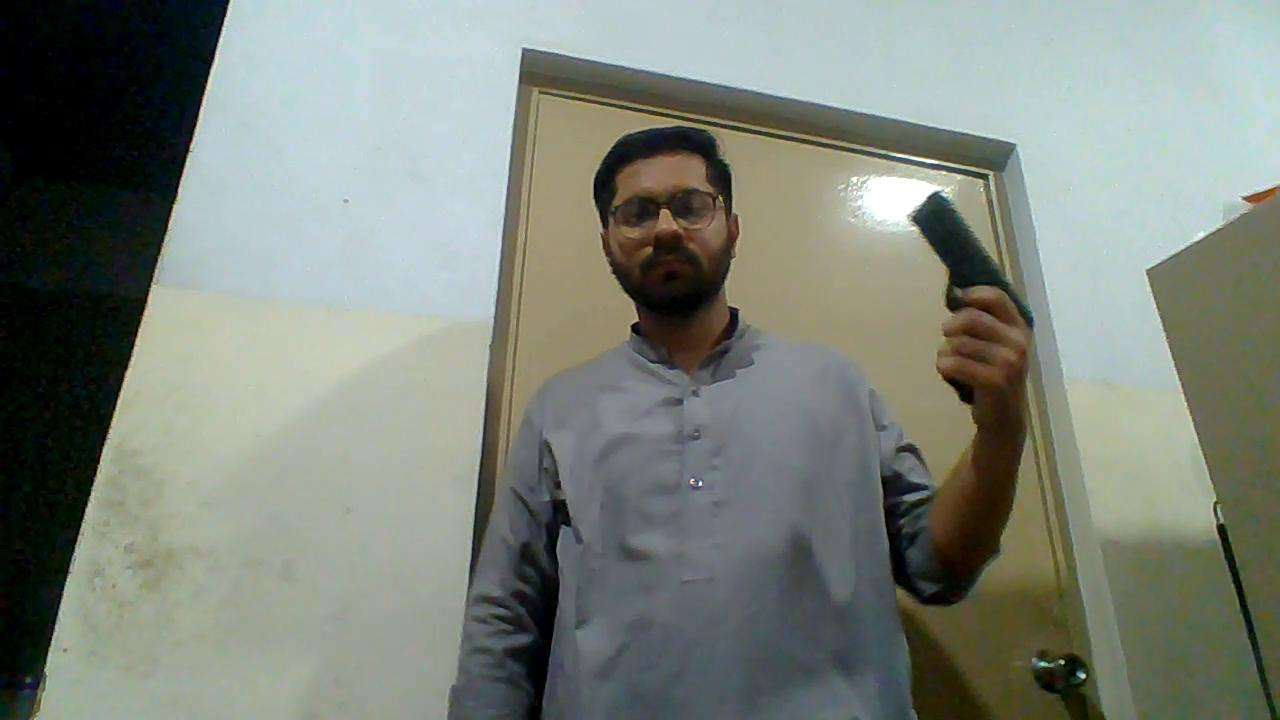criminal: (446, 124, 1040, 720)
weapon: (910, 190, 1040, 399)
